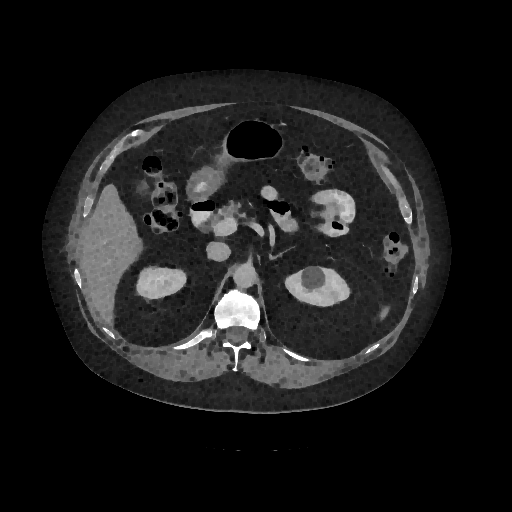Lesion: (298, 264, 328, 293)
